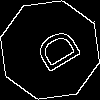D: (25, 25, 83, 80)
